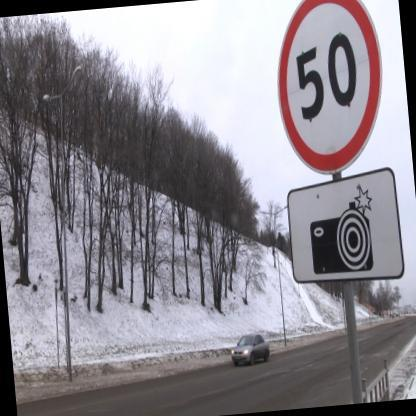road_sign: (279, 0, 383, 175), (288, 167, 406, 285)
